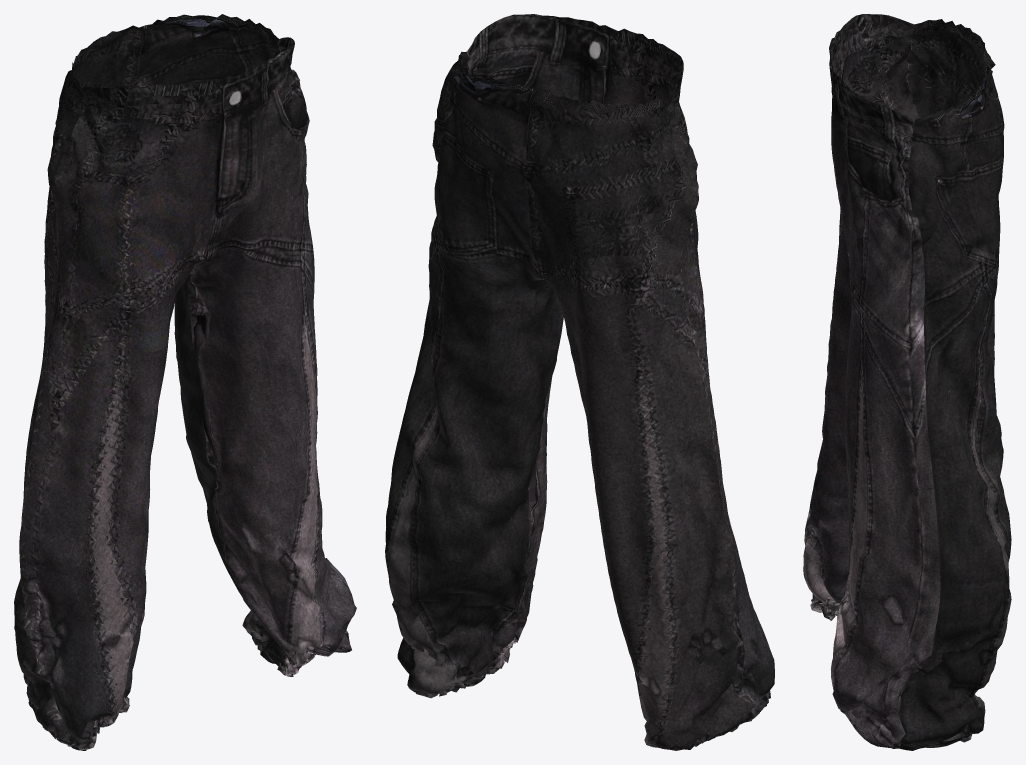
The model's file is walk_jeans_2XLbelt.glb.
3 renders of one model, left to right at view 1: azimuth 30°, elevation 25°; view 2: azimuth 150°, elevation 25°; view 3: azimuth 270°, elevation 25°, orthographic. The views are drawn at different scales.
Parts seen in each view (by area): view 1: WalkJeans; view 2: WalkJeans; view 3: WalkJeans.
Boxes of the visible parts, x1,y1,x2,y2 form: WalkJeans: (14, 14, 356, 750); WalkJeans: (385, 14, 774, 750); WalkJeans: (803, 14, 1011, 750).
Size of the model in its own units: 0.5635 by 1.07 by 0.318.
2 materials, 2 textured.
